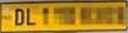character: (14, 8, 24, 25), (25, 7, 35, 24)
